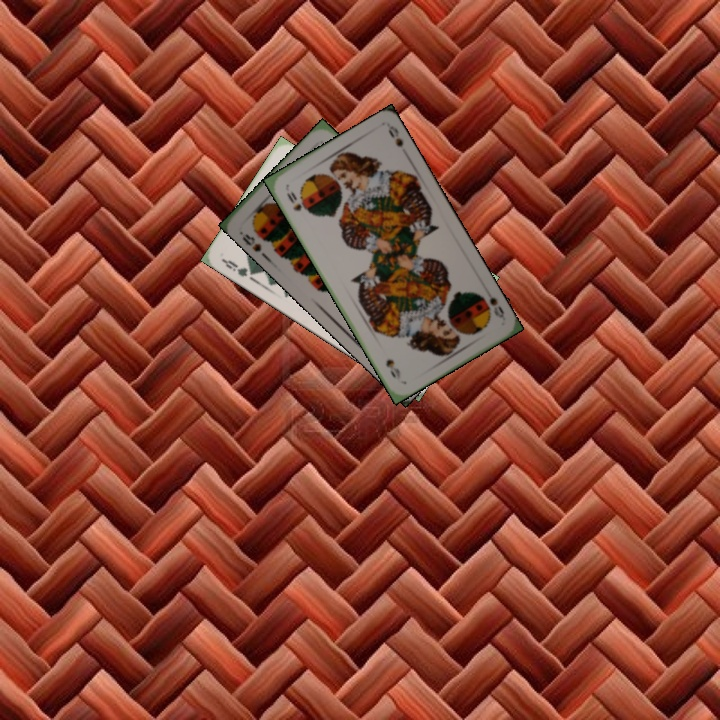G9: (218, 255, 258, 279)
S8: (238, 229, 264, 254)
SO: (485, 293, 507, 321), (282, 187, 304, 214)
